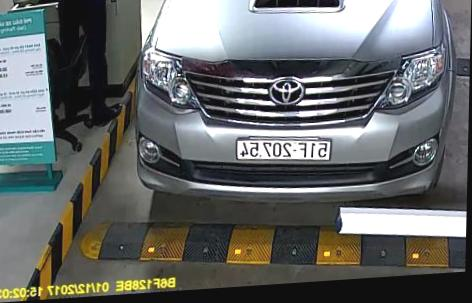License_Plate: (234, 134, 334, 165)
